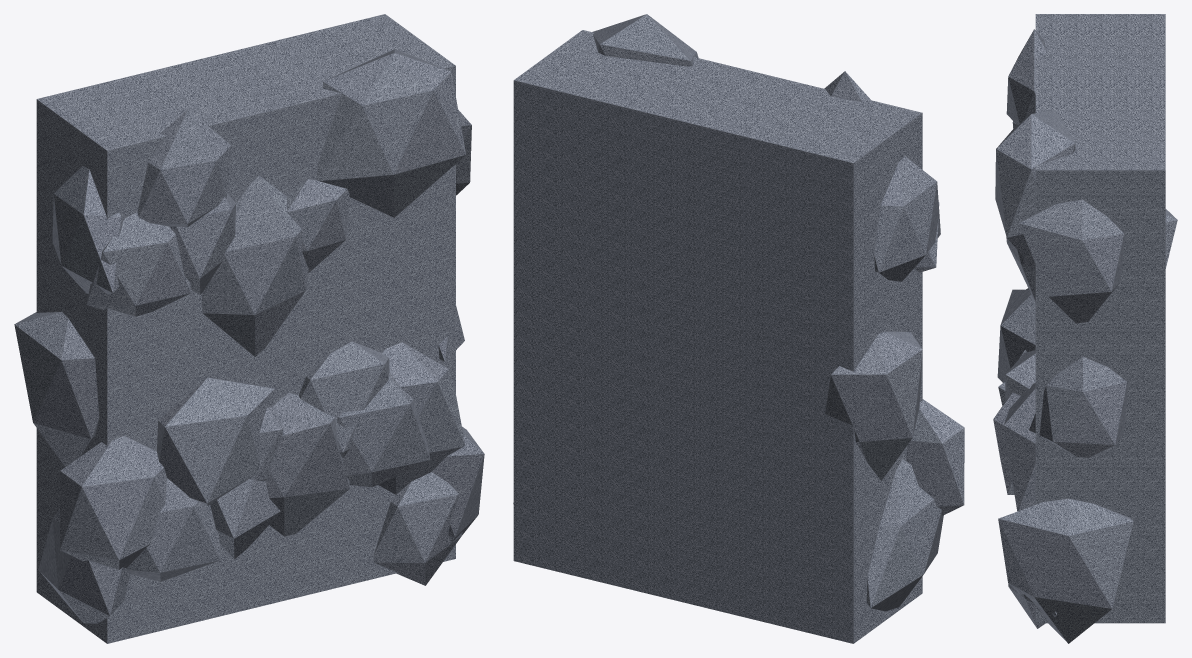
Rendered from cave_chimney_snow.glb.
3 renders of one model, left to right at view 1: azimuth 30°, elevation 25°; view 2: azimuth 150°, elevation 25°; view 3: azimuth 270°, elevation 25°, orthographic. The views are drawn at different scales.
Parts seen in each view (by area): view 1: Body.004; view 2: Body.004; view 3: Body.004.
Part boxes in pixels (x1=…): Body.004: x1=14, y1=14, x2=484, y2=643; Body.004: x1=513, y1=14, x2=964, y2=643; Body.004: x1=993, y1=14, x2=1177, y2=643.
Size of the model in its own units: 8.98 by 11.12 by 3.69.
1 material, 1 textured.
